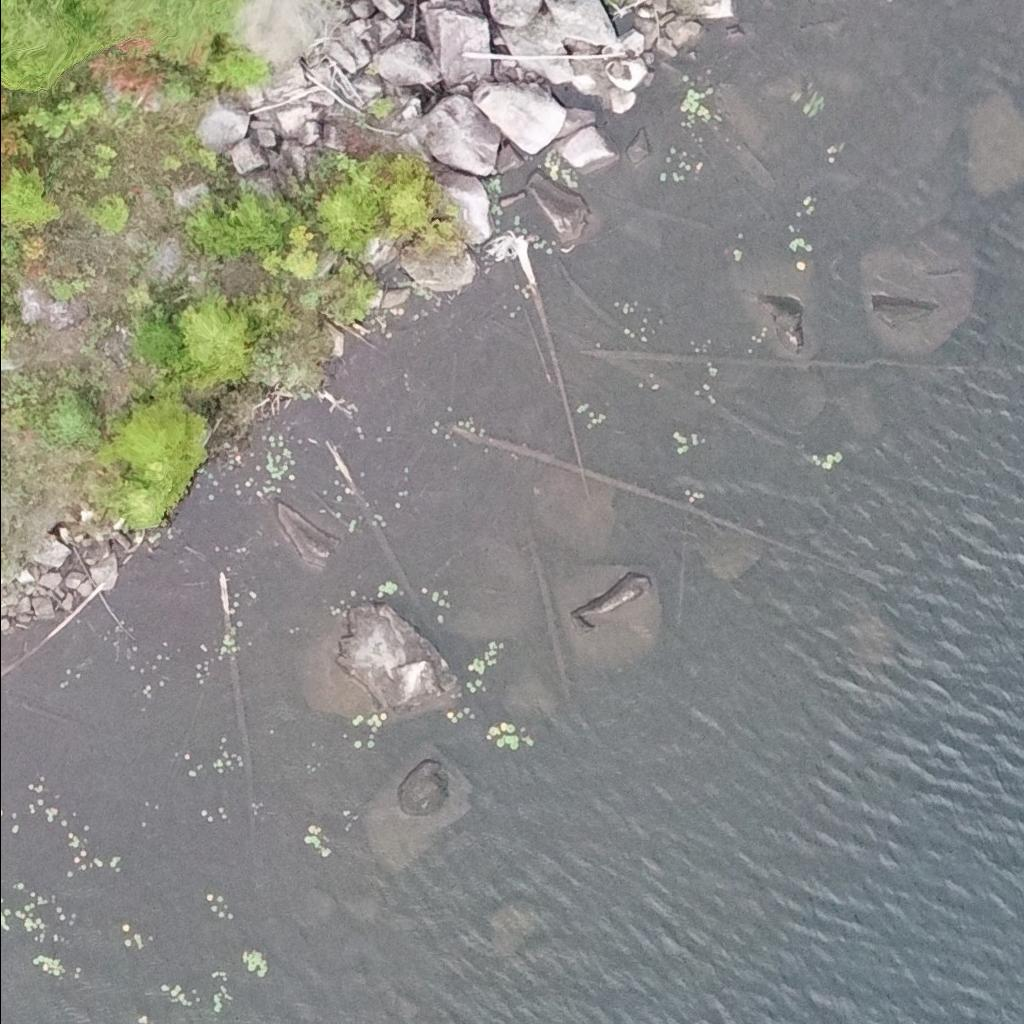crown: (0, 0, 105, 85), (139, 0, 245, 60), (77, 0, 155, 37)
